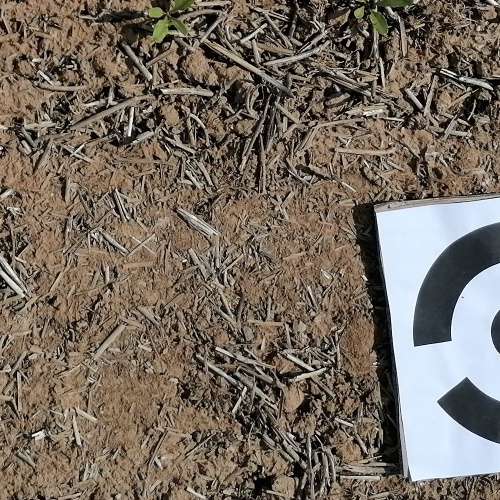beet: (147, 0, 196, 45), (354, 0, 411, 34)
